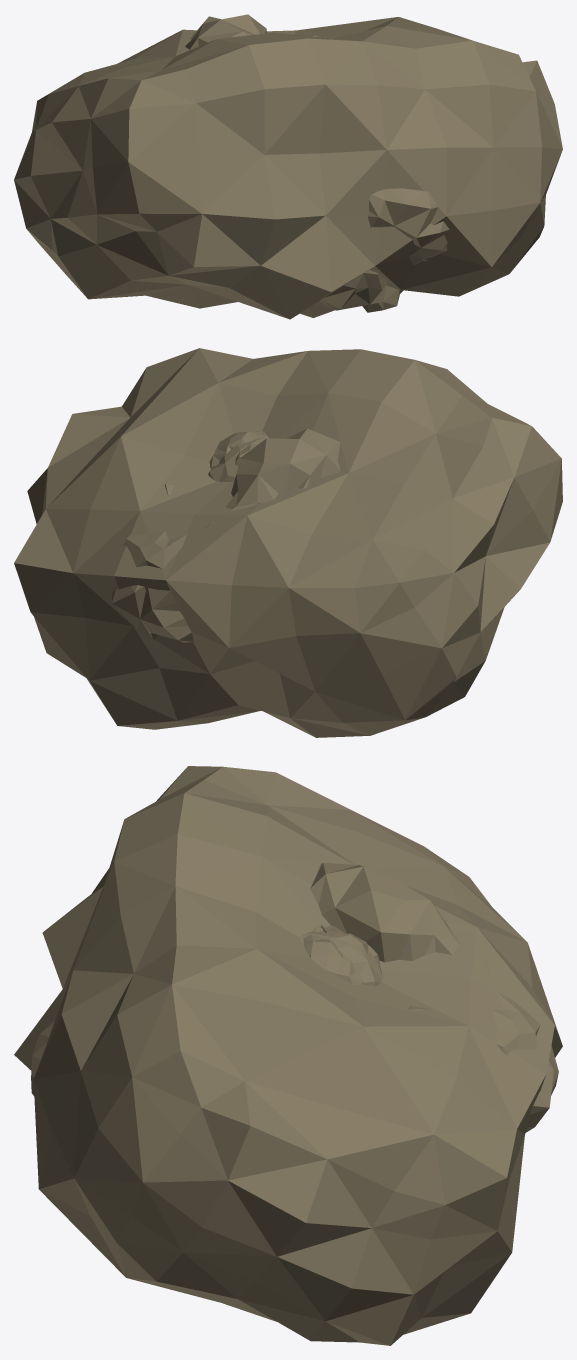
The model's file is LotAsteroids.obj.
3 views of the same model, one above another, from view 1: azimuth 30°, elevation 25°; view 2: azimuth 150°, elevation 25°; view 3: azimuth 270°, elevation 25° (orthographic). The views are drawn at different scales.
Visible parts, largest first — view 1: Stone.036_Cube.001, Stone.036_Cube.000, Stone.025_Cube; view 2: Stone.036_Cube.001, Stone.036_Cube.000, Stone.025_Cube, Stone.027_Cube.002, Stone.031_Cube.006; view 3: Stone.036_Cube.001, Stone.036_Cube.000, Stone.025_Cube, Stone.031_Cube.006, Stone.027_Cube.002.
Boxes of the visible parts, x1,y1,x2,y2 form: Stone.036_Cube.001: (41,17,562,317); Stone.036_Cube.000: (14,39,553,319); Stone.025_Cube: (185,14,449,312); Stone.036_Cube.001: (14,348,561,720); Stone.036_Cube.000: (14,388,562,737); Stone.025_Cube: (112,429,340,642); Stone.027_Cube.002: (208,430,268,481); Stone.031_Cube.006: (209,431,263,468); Stone.036_Cube.001: (14,766,562,1345); Stone.036_Cube.000: (44,808,561,1345); Stone.025_Cube: (31,863,558,1132); Stone.031_Cube.006: (303,934,363,984); Stone.027_Cube.002: (299,931,382,986).
Size of the model in its own units: 6.67 by 4.61 by 5.25.
